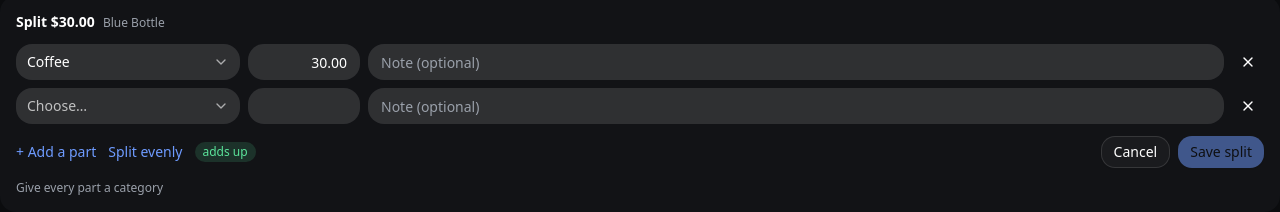
SplitEditor › puts what's left on the part you pick, or takes what's over off it
Replace the text in the field named "Amount of part 1" with "25.80": [304, 62] box [248,44,360,80]
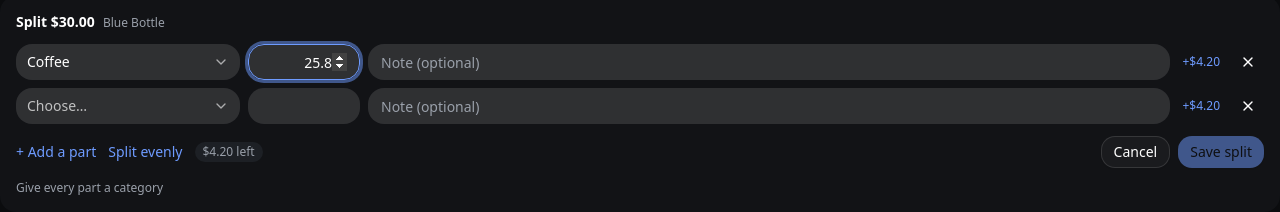
Click the button named "Assign $4.20 to part 2": [1201, 106] box [1178,98,1224,114]
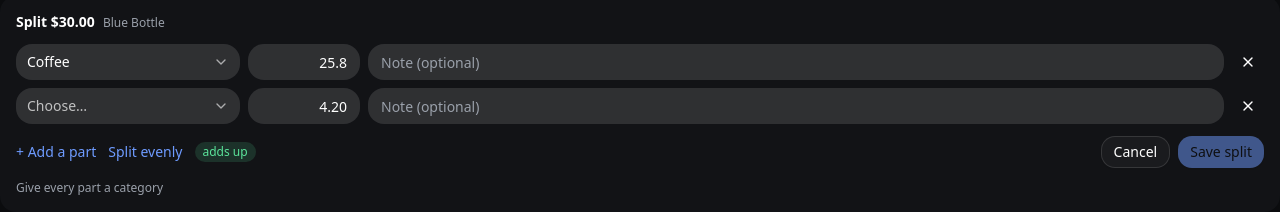
Now the text "adds up" is shown, box [194,142,256,162]
Replace the text in the field named "Amount of part 2" with "5": [304, 106] box [248,88,360,124]
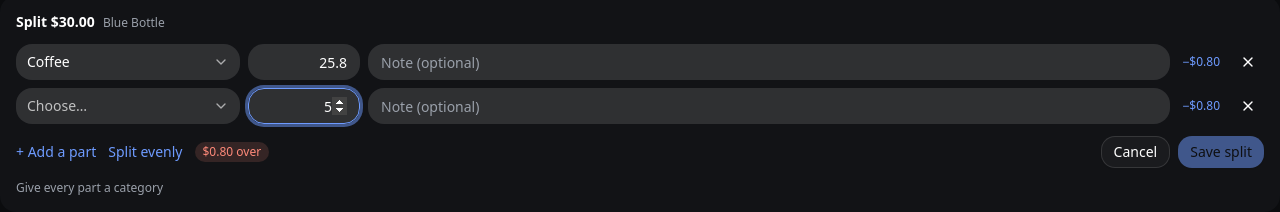
Click the button named "Take off $0.80 from part 1": [1201, 62] box [1178,54,1224,70]
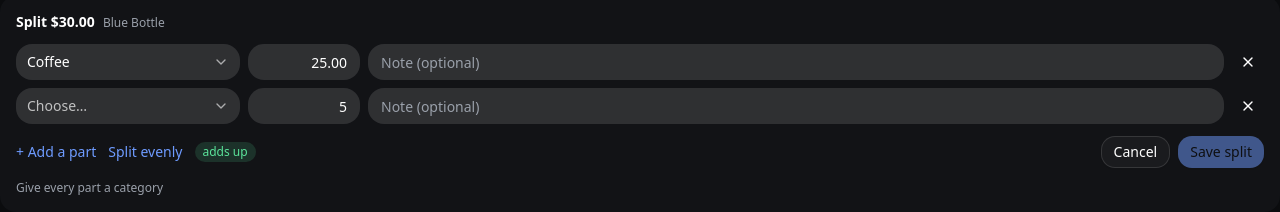
Now the text "adds up" is shown, box [194,142,256,162]
